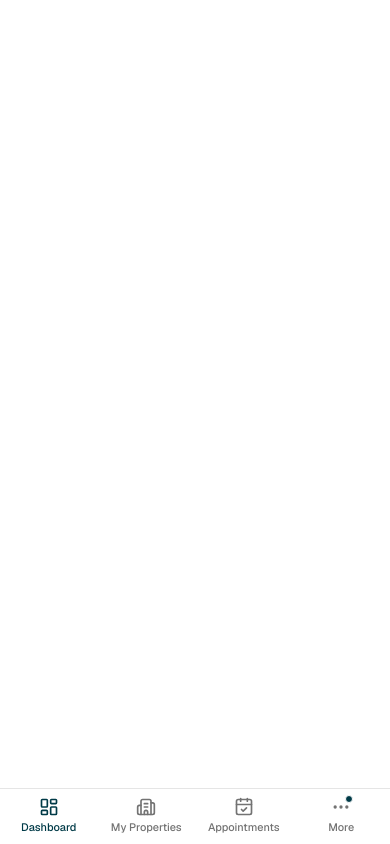
Test: DashboardMobileNav › shows an unread count badge next to Notifications in the More sheet
Click the button "More": (341, 816) [292,789,389,843]
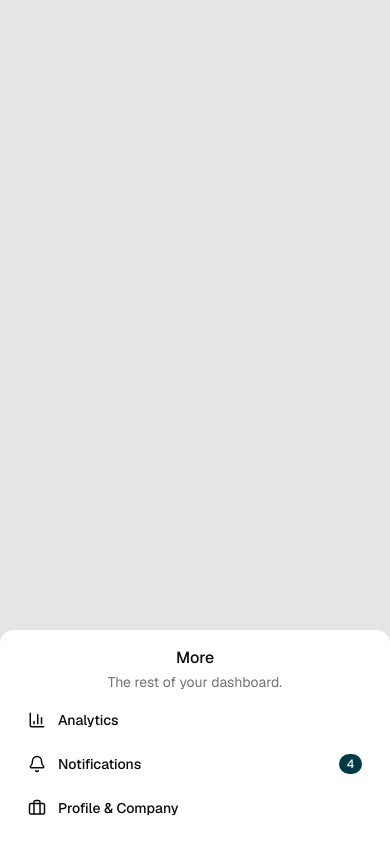
Result: the link "Notifications 4" is shown at [28,754,362,774]
